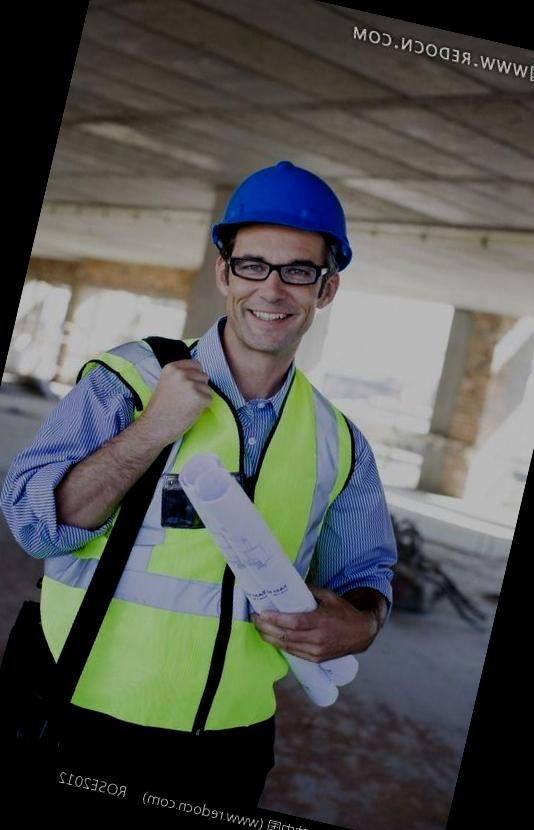helmet: (192, 135, 378, 286)
person: (0, 98, 476, 811)
